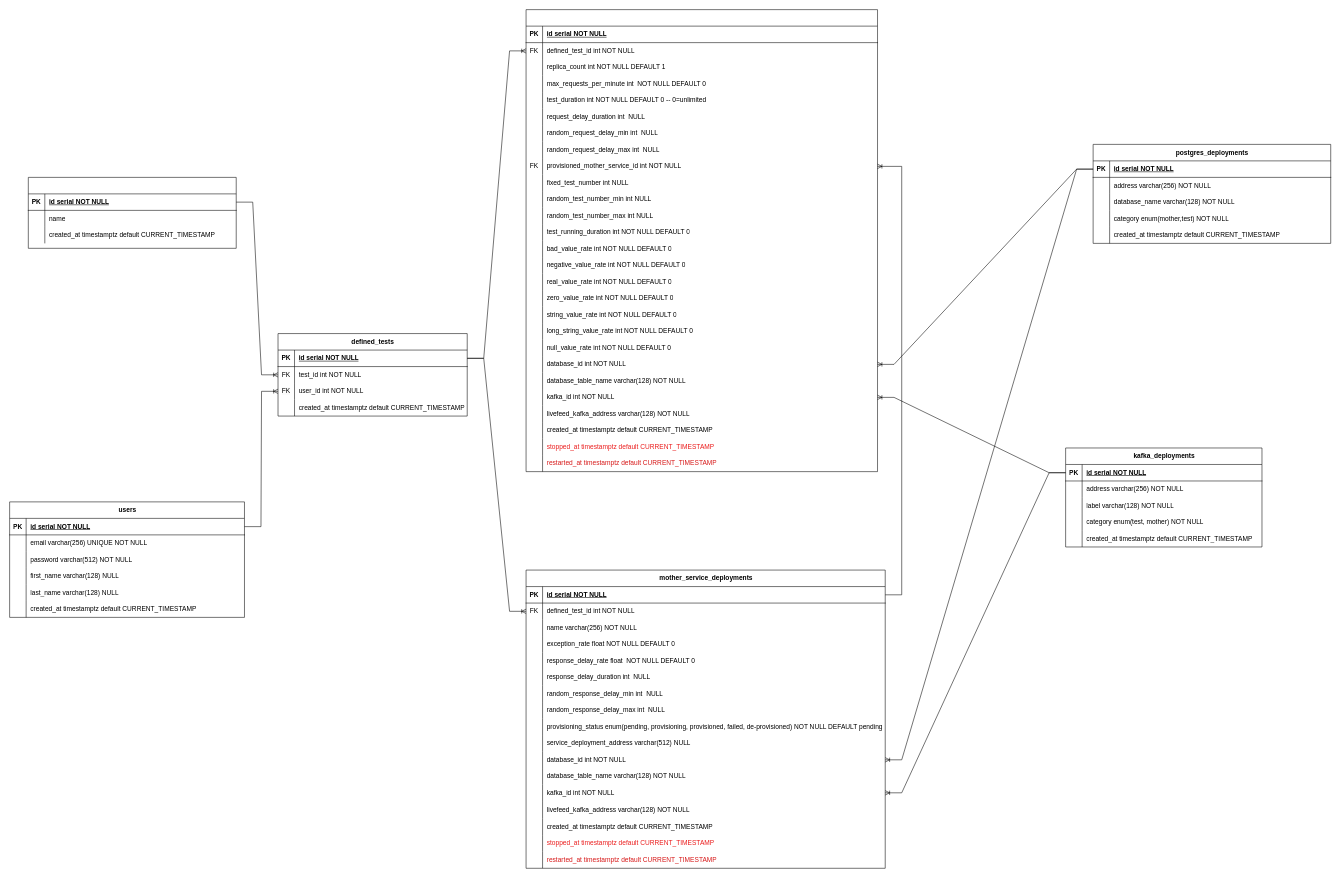
The diagram is 1340 pixels wide and 878 high, and some of its shapes have lost their labels. The box of each missing label's shape, as (x1, y1, x2, y2) in pixels:
test_service_deployments: (526, 9, 878, 472)
tests: (28, 177, 236, 248)
